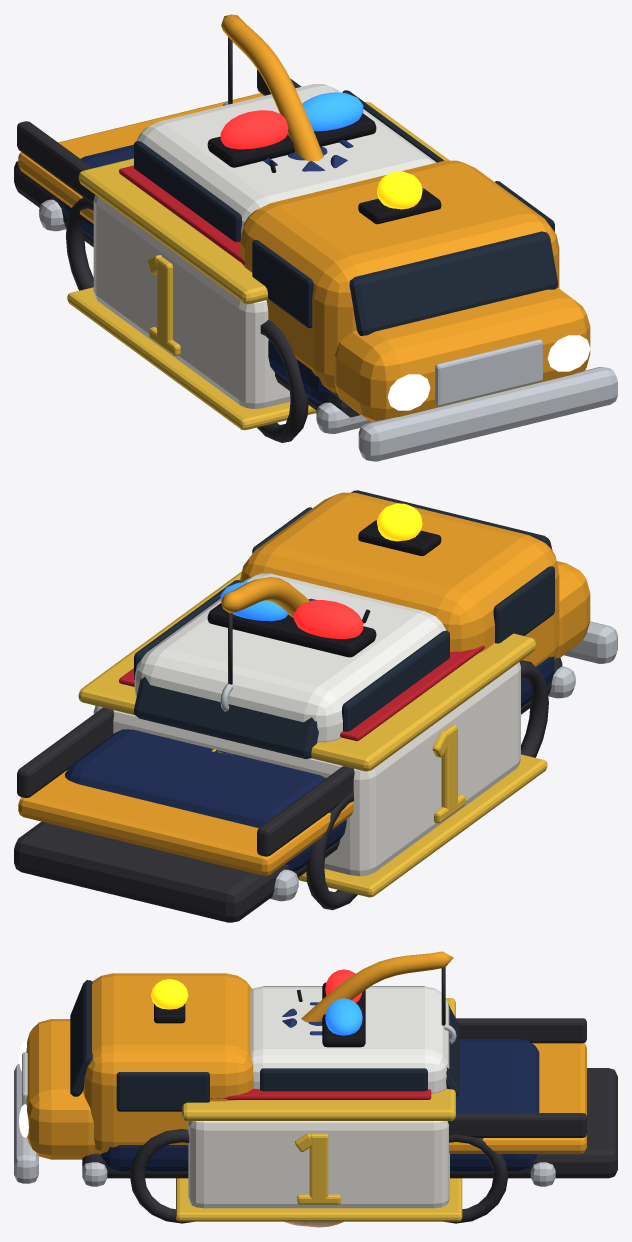
File: cops.glb
3 views of the same model, one above another, from view 1: azimuth 30°, elevation 25°; view 2: azimuth 150°, elevation 25°; view 3: azimuth 270°, elevation 25° (orthographic). The views are drawn at different scales.
Visible parts, largest first — view 1: TruckBody, Podium, CarBody, CarSirenRed, CarSirenBlue, TruckBeacon, CopBody; view 2: TruckBody, CarBody, Podium, CarSirenRed, TruckBeacon, CarSirenBlue; view 3: TruckBody, Podium, CarBody, CarSirenBlue, TruckBeacon, CarSirenRed, CopBody.
Part boxes in pixels (box(x1,y1,x2,y2)): TruckBody: box(14, 14, 617, 461); Podium: box(67, 102, 449, 430); CarBody: box(39, 84, 443, 442); CarSirenRed: box(220, 110, 288, 149); CarSirenBlue: box(302, 92, 363, 131); TruckBeacon: box(377, 171, 422, 209); CopBody: box(263, 140, 353, 172); TruckBody: box(14, 490, 617, 922); CarBody: box(65, 573, 575, 910); Podium: box(78, 571, 547, 897); CarSirenRed: box(294, 600, 363, 638); TruckBeacon: box(377, 503, 422, 541); CarSirenBlue: box(220, 582, 288, 621); TruckBody: box(14, 951, 617, 1183); Podium: box(176, 998, 462, 1221); CarBody: box(82, 982, 555, 1223); CarSirenBlue: box(325, 998, 362, 1035); TruckBeacon: box(151, 979, 188, 1009); CarSirenRed: box(325, 969, 361, 1002); CopBody: box(282, 989, 322, 1035).
Bounding box in the file's own units: 0.46 × 0.4775 × 0.97.
